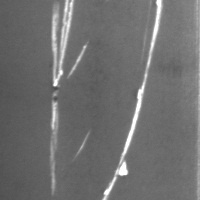scratches: (102, 1, 165, 199), (48, 1, 88, 195)
